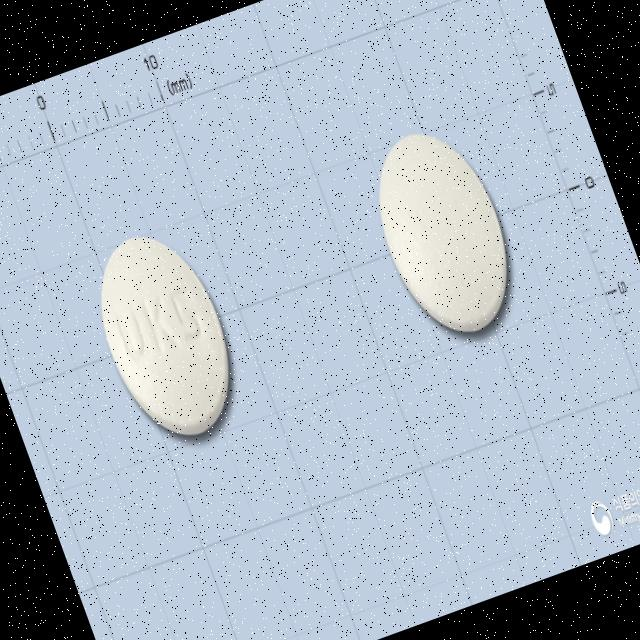Uniciprosacin Tab: (76, 216, 256, 454), (354, 114, 533, 352)
